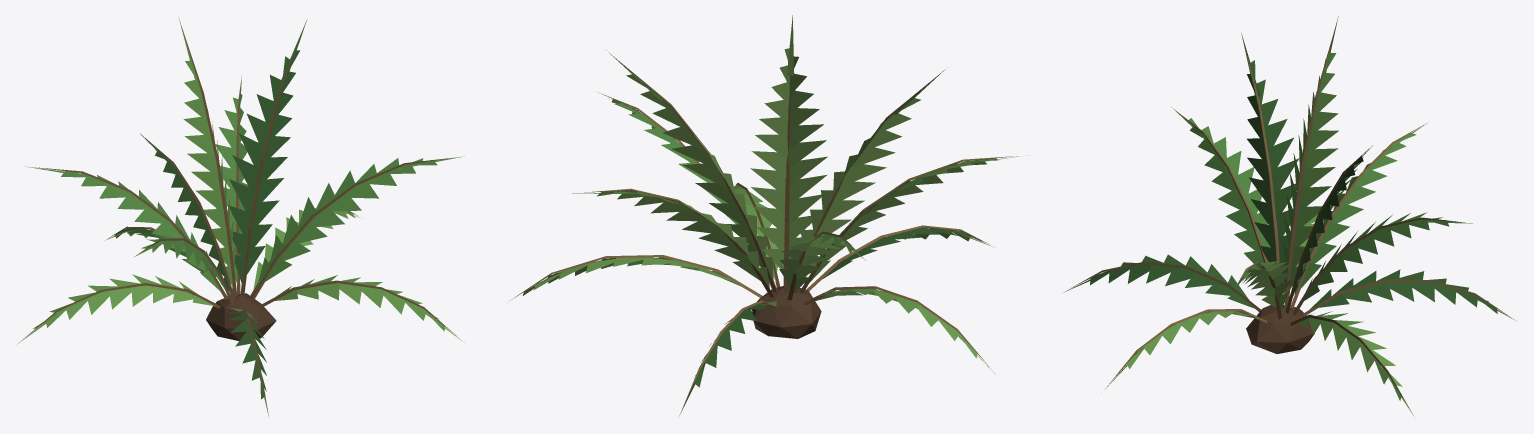
Rendered from fern-plant-1559b8.glb.
3 views of the same model, side by side, from view 1: azimuth 30°, elevation 25°; view 2: azimuth 150°, elevation 25°; view 3: azimuth 270°, elevation 25° (orthographic). The views are drawn at different scales.
Parts seen in each view (by area): view 1: fern-plant-mesh; view 2: fern-plant-mesh; view 3: fern-plant-mesh.
Part boxes in pixels (box(x1,y1,x2,y2)): fern-plant-mesh: box(16, 17, 464, 416); fern-plant-mesh: box(510, 15, 1027, 417); fern-plant-mesh: box(1065, 16, 1515, 417).
Size of the model in its own units: 1.02 by 0.7247 by 0.9735.
